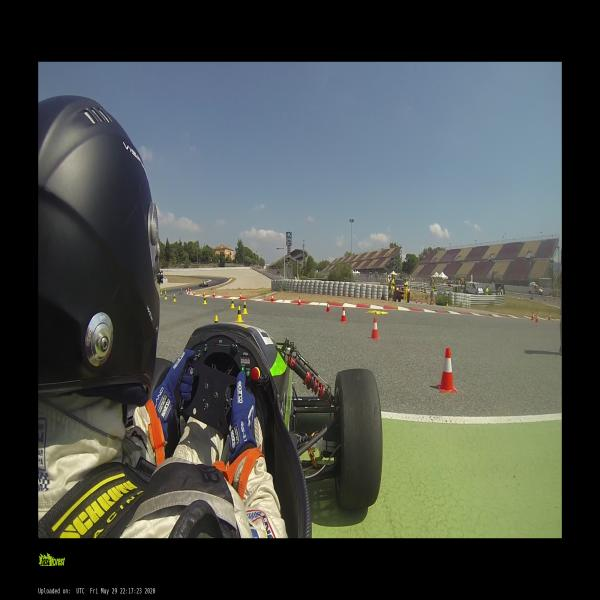orange_cone: (436, 348, 457, 396), (369, 316, 380, 342), (340, 306, 348, 324), (325, 301, 331, 313), (535, 313, 540, 325), (530, 312, 536, 322), (270, 294, 274, 302), (298, 298, 301, 306), (547, 314, 551, 320), (239, 293, 242, 300), (420, 299, 423, 305), (213, 292, 215, 298), (427, 300, 429, 305), (193, 291, 195, 296), (203, 291, 204, 297), (416, 299, 417, 304), (188, 290, 189, 294), (187, 292, 188, 294)
yellow_cone: (235, 306, 242, 322), (242, 301, 248, 314), (230, 298, 234, 309), (203, 296, 207, 304), (173, 294, 176, 301), (215, 316, 218, 323), (445, 300, 448, 306), (165, 293, 167, 300), (160, 291, 162, 294), (165, 291, 166, 294)
